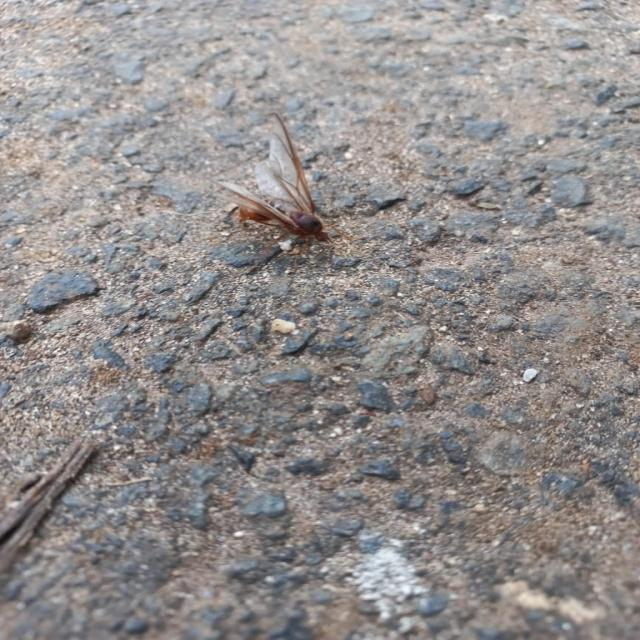Alive-Male-Alate: (206, 113, 358, 271)
